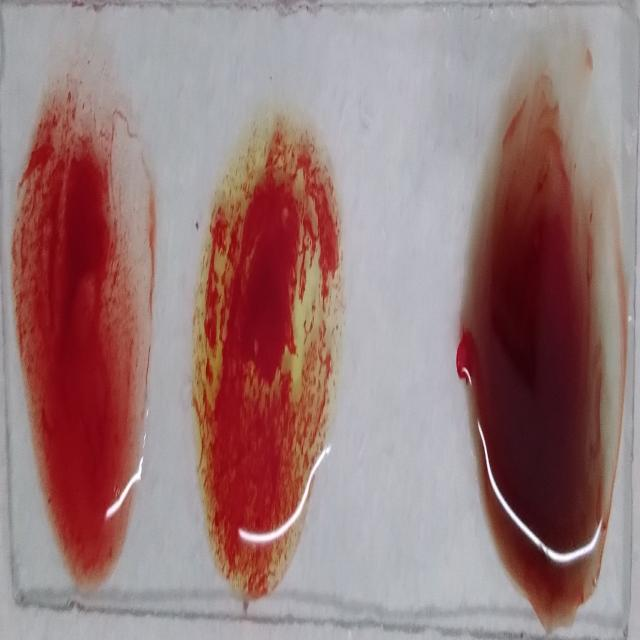B: (192, 112, 341, 599)
D: (13, 95, 152, 593)
